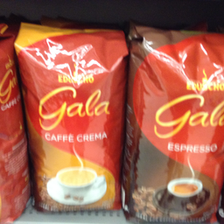coffee: (13, 22, 127, 213), (125, 22, 224, 223)
